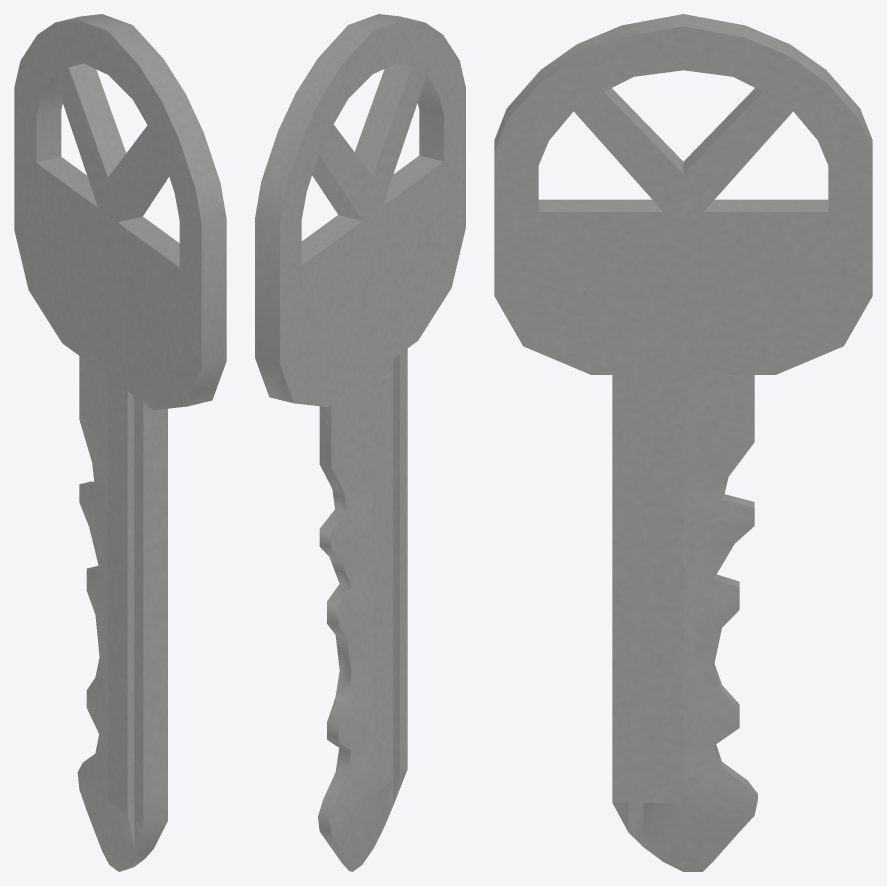
File: models-key-metal.glb
The picture shows the model from 3 angles, left to right: view 1: azimuth 30°, elevation 25°; view 2: azimuth 150°, elevation 25°; view 3: azimuth 270°, elevation 25°; orthographic projection.
Parts seen in each view (by area): view 1: SM_Key_Metal_0; view 2: SM_Key_Metal_0; view 3: SM_Key_Metal_0.
Part boxes in pixels (x1=…): SM_Key_Metal_0: x1=14, y1=14, x2=226, y2=871; SM_Key_Metal_0: x1=255, y1=14, x2=465, y2=871; SM_Key_Metal_0: x1=494, y1=14, x2=872, y2=871.
Bounding box in the file's own units: 0.00322 × 0.1042 × 0.042.
1 material, 1 textured.
